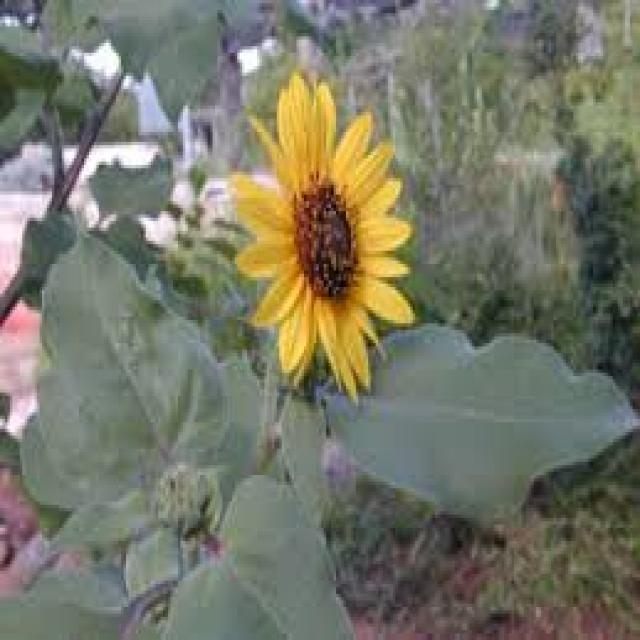sunflower: (212, 64, 420, 417)
